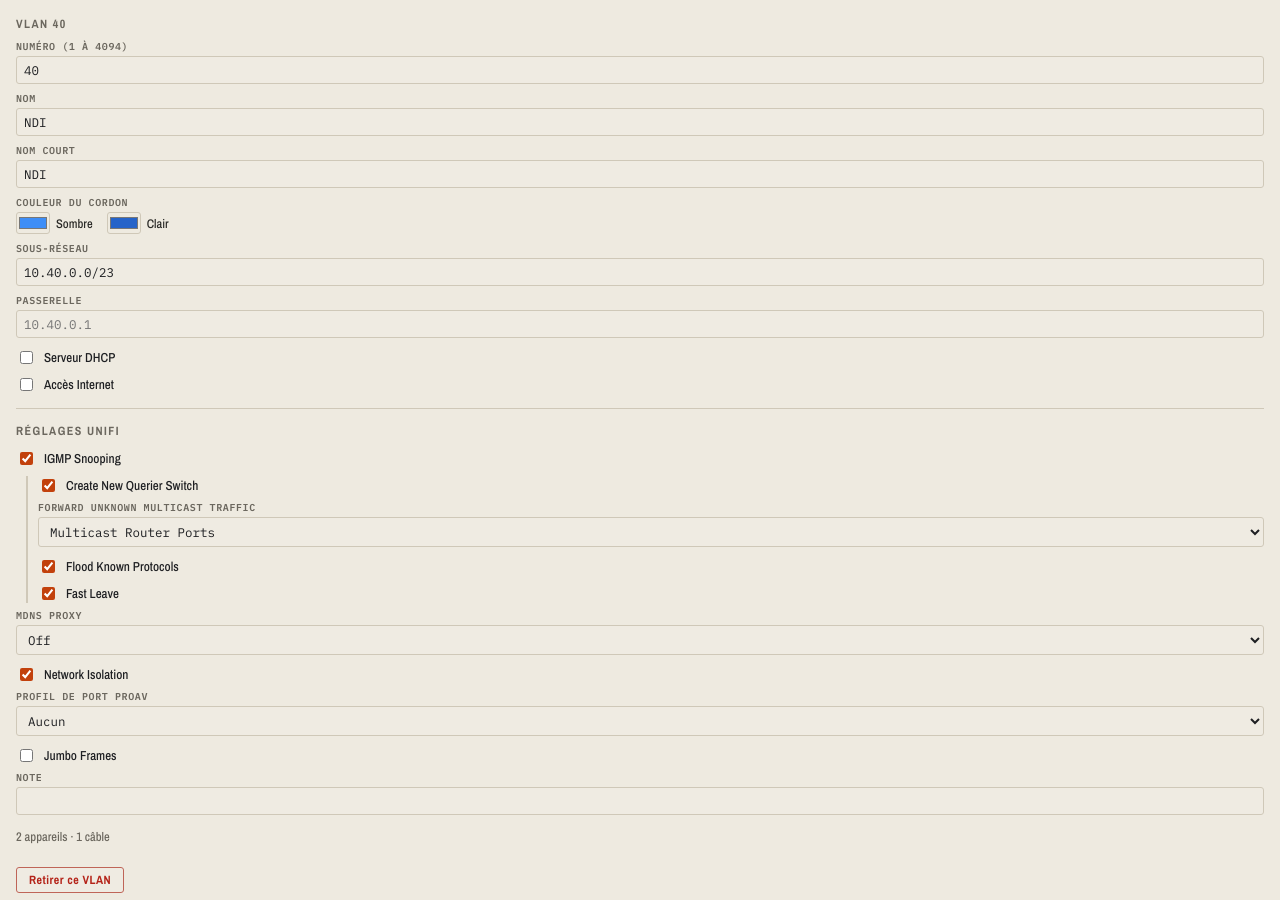
fiche VLAN › renumérote en suivant la fiche, et refuse un numéro déjà pris
This screenshot has width=1280, height=900.
Replace the text in the field named "Numéro du VLAN" with "10": (640,70) [16,56,1264,84]
Then press Enter
Replace the text in the field named "Numéro du VLAN" with "41": (640,70) [16,56,1264,84]
Then press Enter
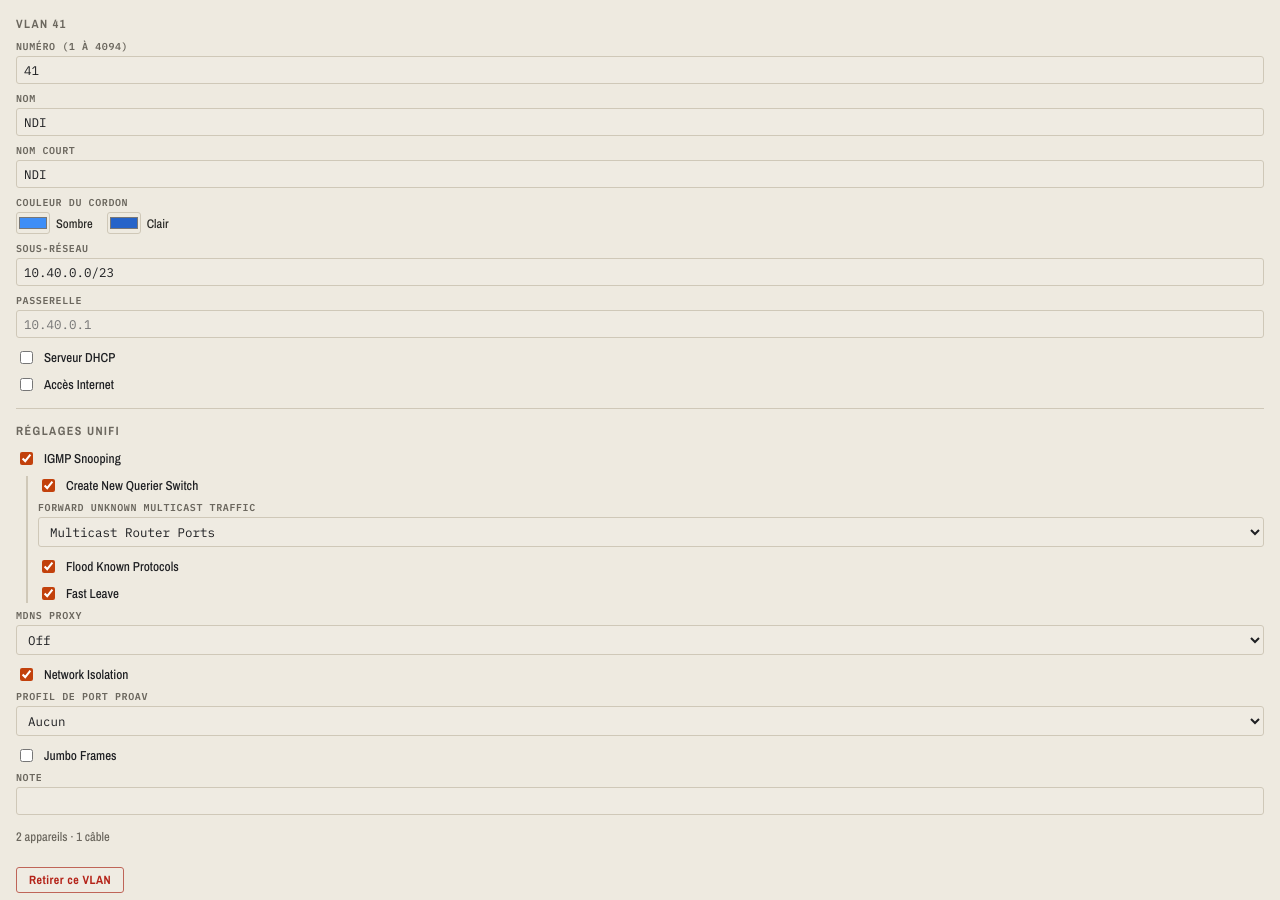
Check: the heading "VLAN 41" is shown, box [16,16,67,32]
